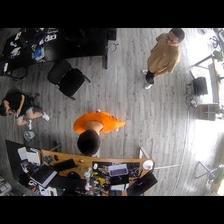normal: (140, 29, 186, 90), (74, 109, 126, 153)
